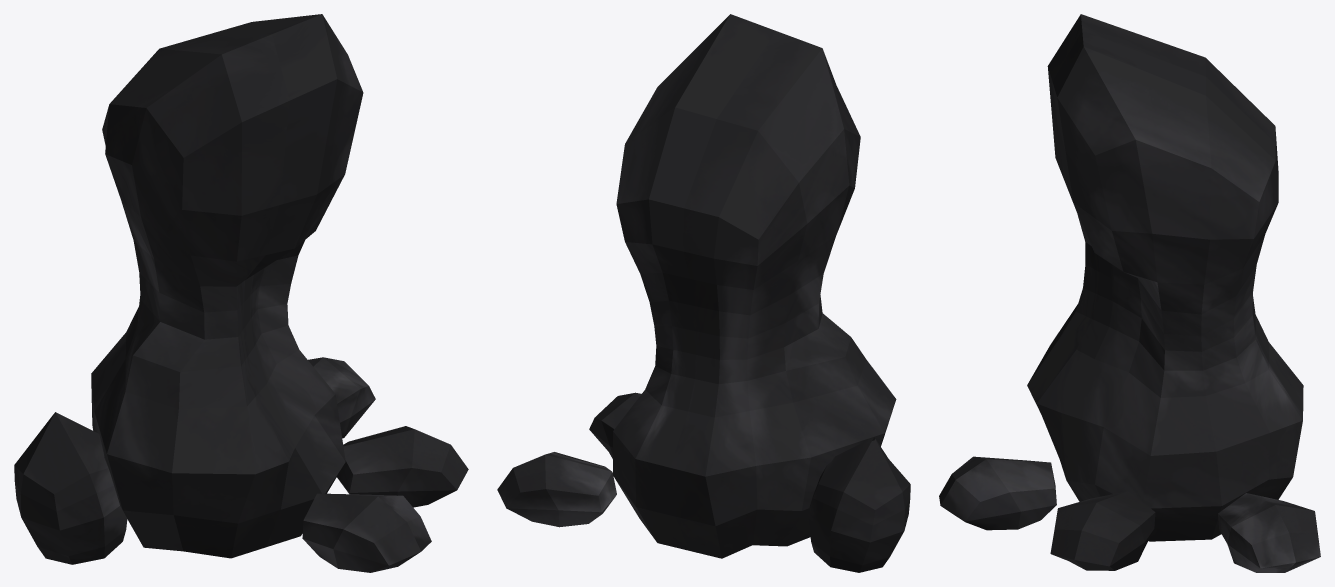
The model's file is Rock_B.fbx.
The picture shows the model from 3 angles, left to right: view 1: azimuth 30°, elevation 25°; view 2: azimuth 150°, elevation 25°; view 3: azimuth 270°, elevation 25°; orthographic projection. The views are drawn at different scales.
Visible parts, largest first — view 1: RockSmooth_A; view 2: RockSmooth_A; view 3: RockSmooth_A.
Boxes of the visible parts, x1,y1,x2,y2 form: RockSmooth_A: [14, 14, 468, 572]; RockSmooth_A: [497, 14, 910, 572]; RockSmooth_A: [939, 14, 1320, 572].
Size of the model in its own units: 277 by 351 by 249.
